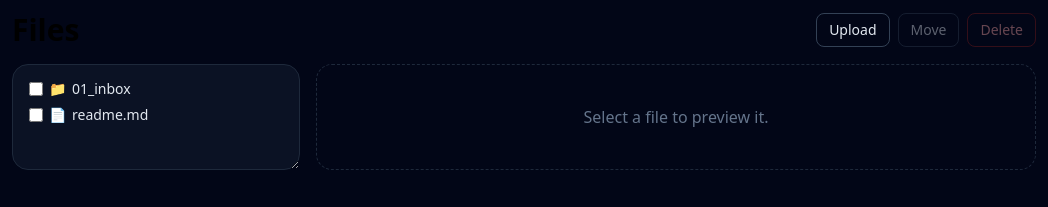
Scenario: Files page › renders root entries and lazily expands a directory on click
This screenshot has width=1048, height=207.
Expected: the text "readme.md" is shown, [72,105,148,125]
Expected: the text "a.md" is not shown
Click the text "01_inbox" at (101, 89), box [72,79,131,99]
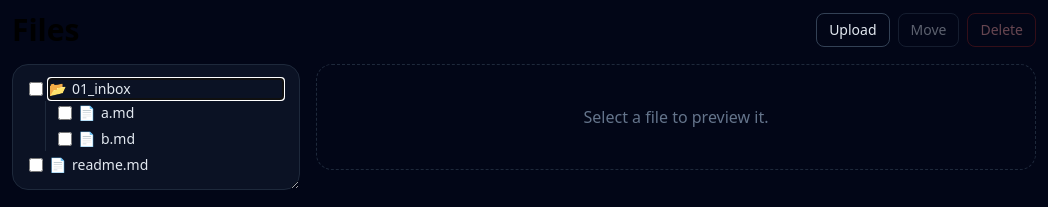
Expected: the text "a.md" is shown, [101,103,134,123]
Expected: the text "b.md" is shown, [101,129,135,149]
